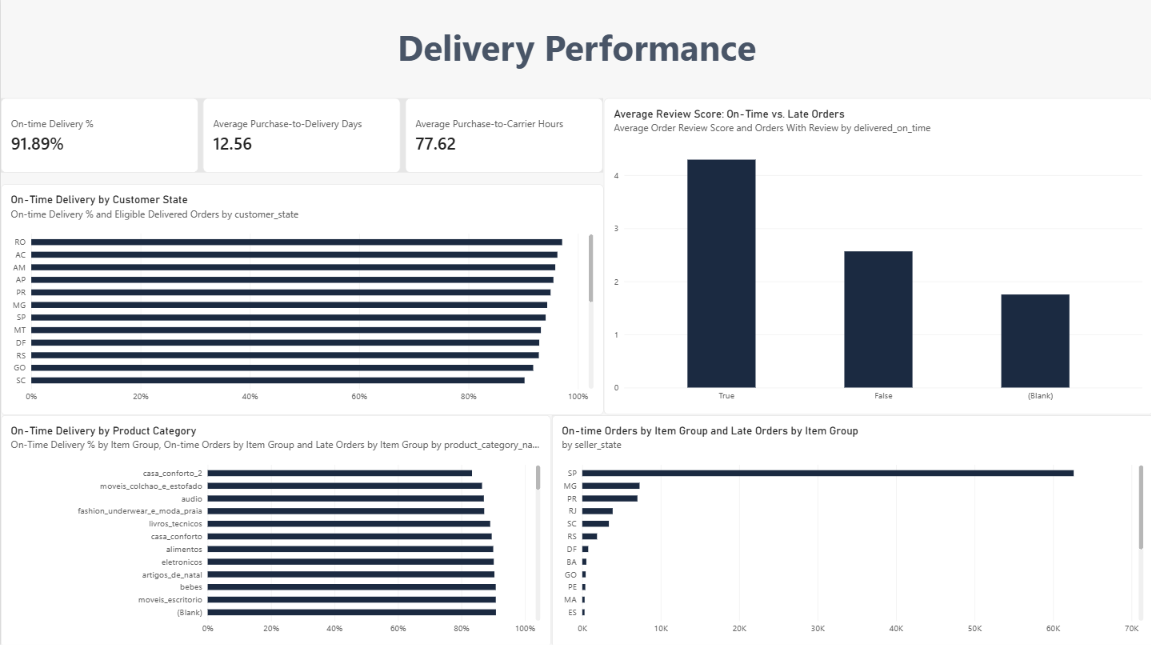

The dashboard page shown, as its layout file describes it:
{"tool":"powerbi","page":{"name":"Delivery Performance","canvas":[1920,1080],"ordinal":1},"visuals":[{"type":"cardVisual","fields":{"Data":["gold v_order_experience.On-time Delivery %","gold v_order_experience.Average Purchase-to-Delivery Days","gold v_order_experience.Average Purchase-to-Carrier Hours"]},"box":[0,165,1004,124],"z":0},{"type":"clusteredBarChart","title":"On-Time Delivery by Customer State","fields":{"Category":["gold v_order_experience.customer_state"],"Y":["gold v_order_experience.On-time Delivery %"]},"box":[0,307.5,1005,385],"z":1000},{"type":"clusteredBarChart","fields":{"Category":["gold fact_order_items.seller_state"],"Y":["gold fact_order_items.On-time Orders by Item Group"]},"box":[917.5,692.5,1003.3,386.7],"z":2000},{"type":"clusteredBarChart","title":"On-Time Delivery by Product Category","fields":{"Category":["gold fact_order_items.product_category_name"],"Y":["gold fact_order_items.On-Time Delivery % by Item Group"]},"box":[0,693.3,916.7,386.7],"z":3000},{"type":"clusteredColumnChart","title":"Average Review Score: On-Time vs. Late Orders","fields":{"Category":["gold v_order_experience.delivered_on_time"],"Y":["gold v_order_experience.Average Order Review Score"]},"box":[1005,165,915,527.5],"z":4000},{"type":"textbox","box":[0,40,1782.5,110],"z":4001}]}

Visuals, with their boxes in screenshot pixels (x1, y1, x2, y2), scaled from the page's 1920x1080 canvas onto the 1151x645 screenshot:
cardVisual - gold v_order_experience.On-time Delivery % x gold v_order_experience.Average Purchase-to-Delivery Days: locate(0, 99, 602, 173)
"On-Time Delivery by Customer State" clusteredBarChart: locate(0, 184, 602, 414)
clusteredBarChart - gold fact_order_items.seller_state x gold fact_order_items.On-time Orders by Item Group: locate(550, 414, 1150, 644)
"On-Time Delivery by Product Category" clusteredBarChart: locate(0, 414, 550, 644)
"Average Review Score: On-Time vs. Late Orders" clusteredColumnChart: locate(602, 99, 1150, 414)
textbox: locate(0, 24, 1069, 90)
